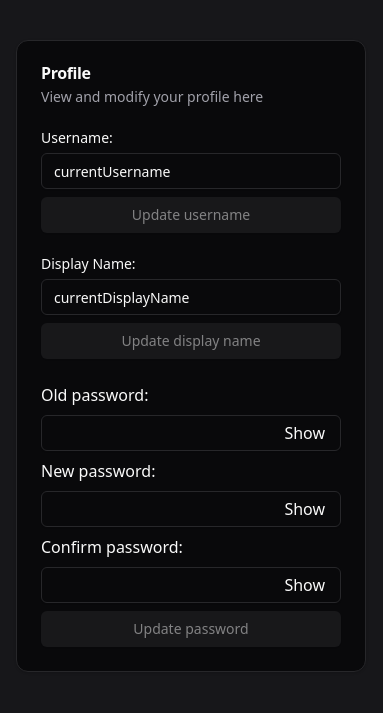
Test: Profile Component › displays fallback error when updating username fails
Replace the text in the field labelled "Username:" with "newUsername" at (191, 171), box [41, 153, 341, 189]
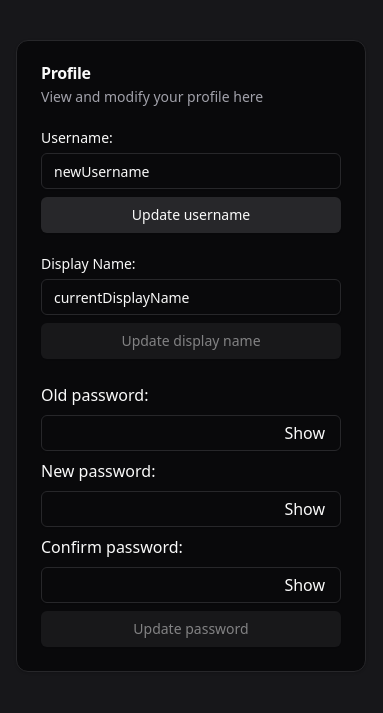
Click the button "Update username" at (191, 215), box [41, 197, 341, 233]
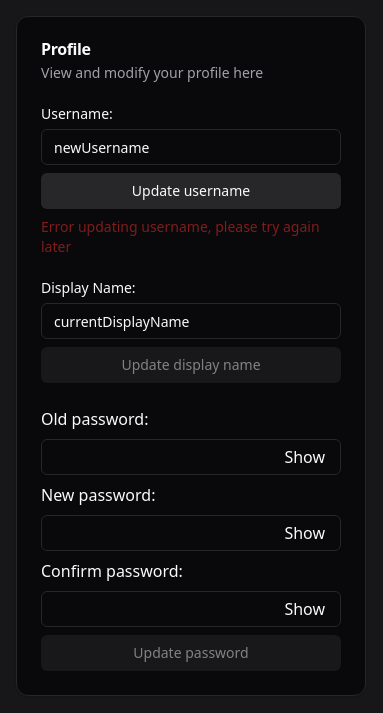
Now the heading "Error updating username, please try again later" is shown, box [41, 217, 341, 257]
